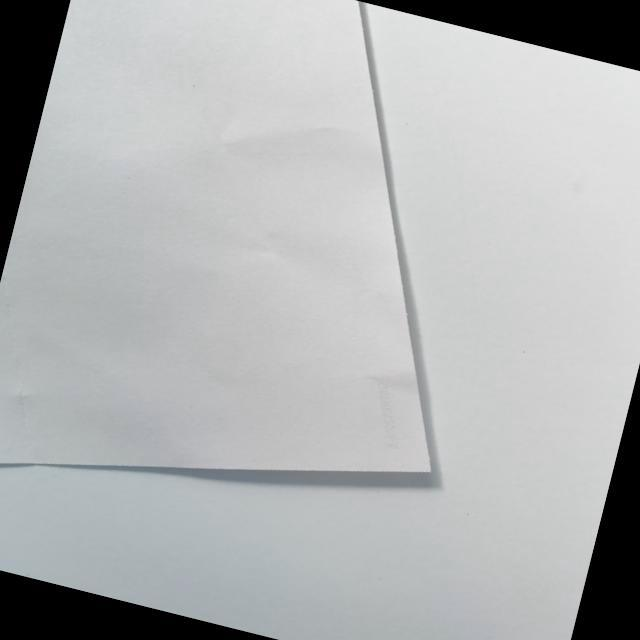paper: (0, 0, 592, 617)
